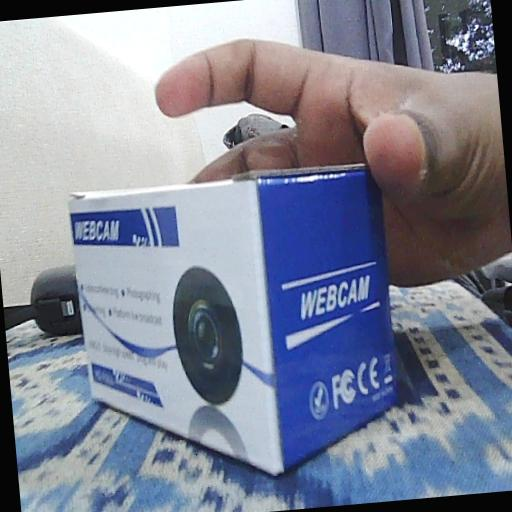webcam_box: (67, 167, 408, 495)
